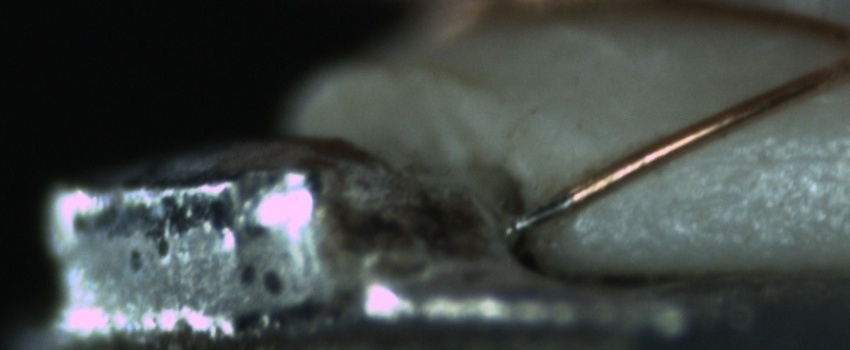DL: (698, 124, 850, 191)
TS: (511, 192, 575, 232)
TTCW: (514, 168, 600, 235)
